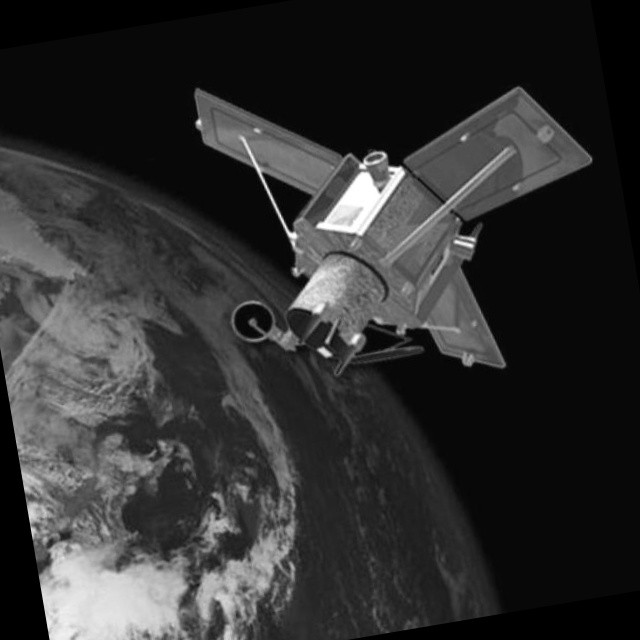medium_debris: (173, 8, 635, 445)
